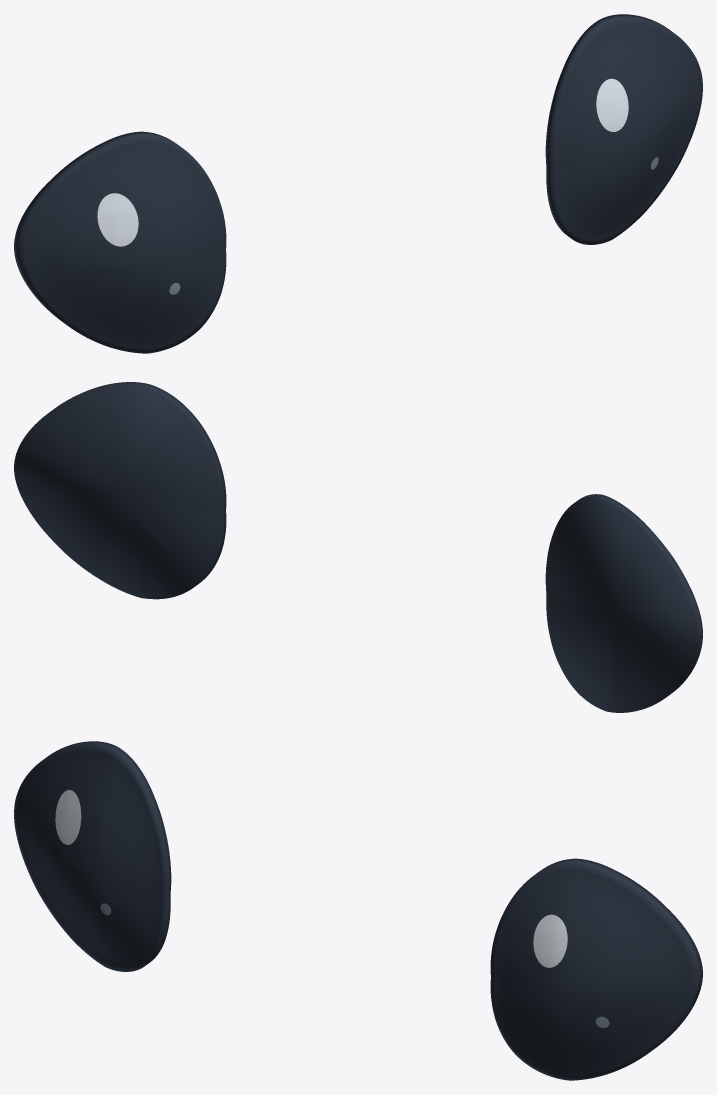
Rendered from Feminine-eyes-tapered.glb.
3 views of the same model, one above another, from view 1: azimuth 30°, elevation 25°; view 2: azimuth 150°, elevation 25°; view 3: azimuth 330°, elevation 25° (orthographic).
Parts seen in each view (by area): view 1: 226 eyes / Eye / smoky charcoal181, 226 eyes / Eye highlight181; view 2: 226 eyes / Eye / smoky charcoal181; view 3: 226 eyes / Eye / smoky charcoal181, 226 eyes / Eye highlight181.
Boxes of the visible parts, left/top/right/bottom form: 226 eyes / Eye / smoky charcoal181: left=14, top=14, right=702, bottom=353; 226 eyes / Eye highlight181: left=97, top=78, right=628, bottom=246; 226 eyes / Eye / smoky charcoal181: left=14, top=382, right=702, bottom=712; 226 eyes / Eye / smoky charcoal181: left=14, top=741, right=702, bottom=1080; 226 eyes / Eye highlight181: left=55, top=790, right=567, bottom=967.
Size of the model in its own units: 0.4202 by 0.1261 by 0.0401.
